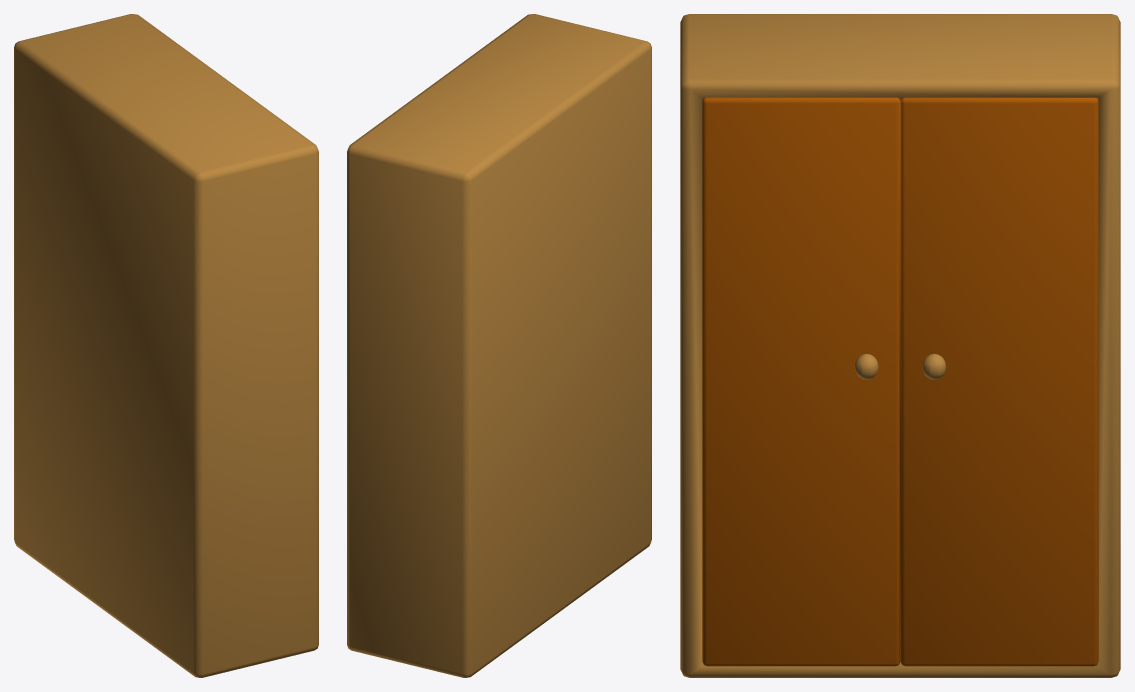
The model's file is Closet.fbx.
3 views of the same model, side by side, from view 1: azimuth 30°, elevation 25°; view 2: azimuth 150°, elevation 25°; view 3: azimuth 270°, elevation 25° (orthographic). The views are drawn at different scales.
Parts seen in each view (by area): view 1: Closet; view 2: Closet; view 3: Closet.
Part boxes in pixels (x1=…): Closet: x1=14, y1=14, x2=318, y2=677; Closet: x1=347, y1=14, x2=651, y2=677; Closet: x1=680, y1=14, x2=1120, y2=677.
Size of the model in its own units: 0.8827 by 2 by 3.
